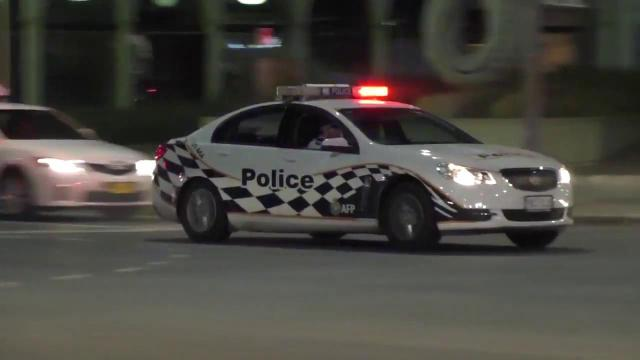police: (156, 75, 576, 250)
